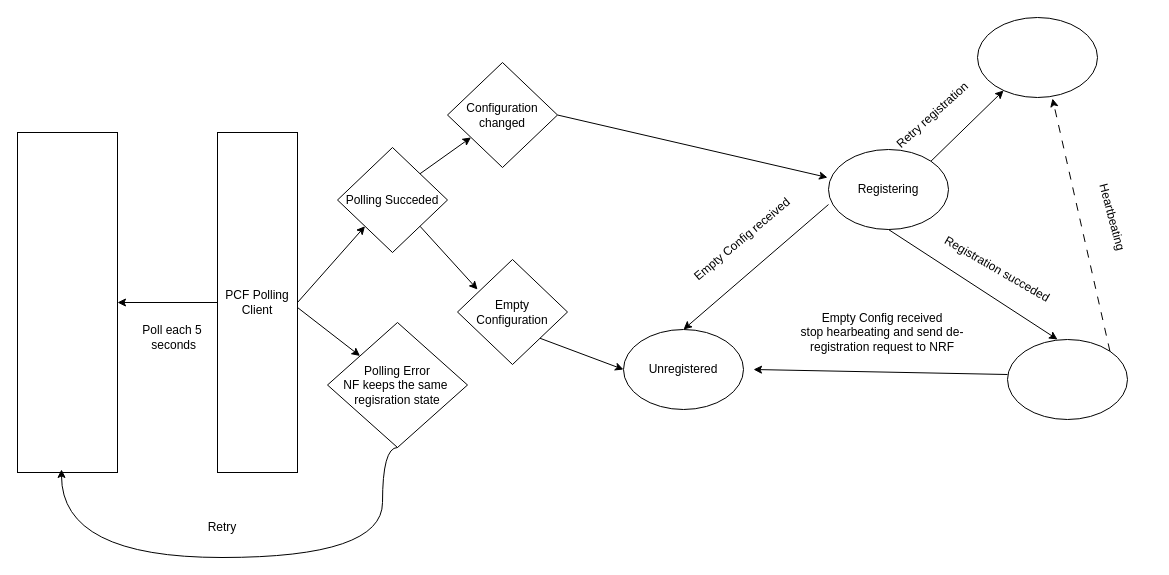
Image size: 1169x575. Some labels were removed from this diagram. Here are the shapes that lost their labels. From the top down, the box of each, then its label:
(976, 16, 1098, 98): NRF
(16, 132, 118, 472): Webconsole NFConfig Server Port 5001 HTTPS
(1006, 338, 1128, 420): Registered
